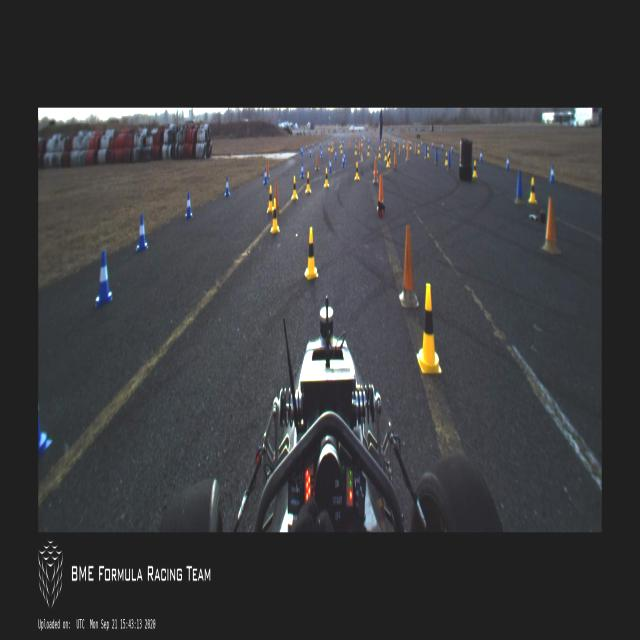blue_cone: (95, 250, 113, 308), (136, 214, 148, 252), (185, 192, 192, 218), (225, 177, 230, 196), (550, 164, 554, 183), (264, 167, 268, 185), (300, 163, 304, 179), (506, 156, 510, 170), (329, 160, 332, 172), (342, 156, 344, 168), (480, 150, 482, 162), (335, 149, 337, 160), (451, 145, 453, 153)
unknown_cone: (399, 225, 419, 308), (376, 173, 384, 211), (275, 180, 281, 216), (372, 158, 378, 184), (393, 150, 397, 168)
yellow_cone: (416, 284, 442, 373), (304, 227, 318, 280), (270, 198, 280, 234), (528, 177, 538, 203), (267, 185, 273, 213), (291, 176, 298, 200), (306, 172, 312, 194), (354, 162, 360, 180), (472, 160, 478, 178), (324, 168, 329, 188), (386, 154, 391, 168), (445, 152, 448, 166), (378, 146, 381, 158), (385, 149, 387, 161), (428, 146, 430, 158), (368, 146, 370, 156), (418, 144, 420, 154)
